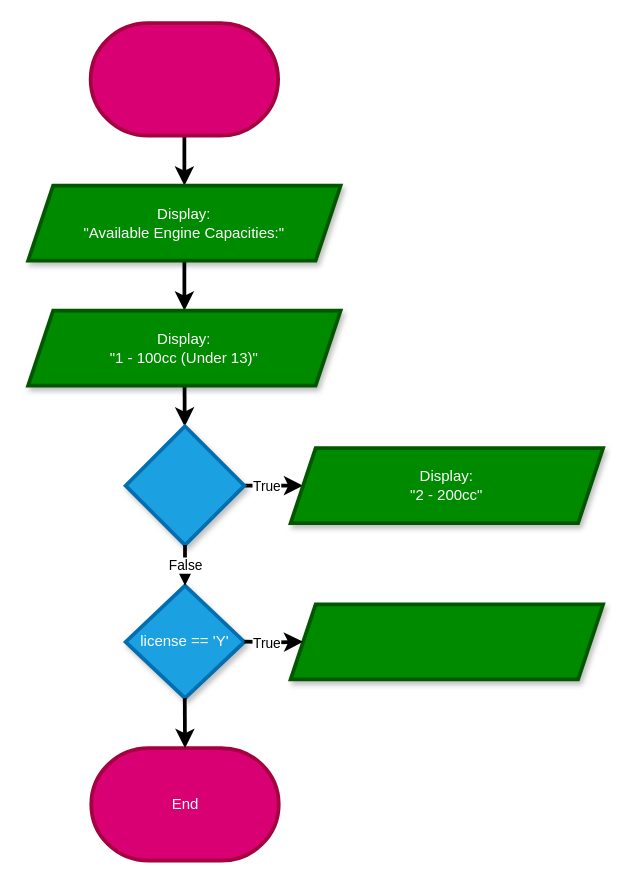
The diagram is 634 pixels wide and 884 high, and some of its shapes have lost their labels. The shapes that lost their labels are listed below. From the top down, each one's centre as x and y in pixels, then its label:
(183,79): displayEngineCapacities (int age, char license)
(185,487): age >= 18
(447,643): Display: "3 - 270cc (Requires License)"
